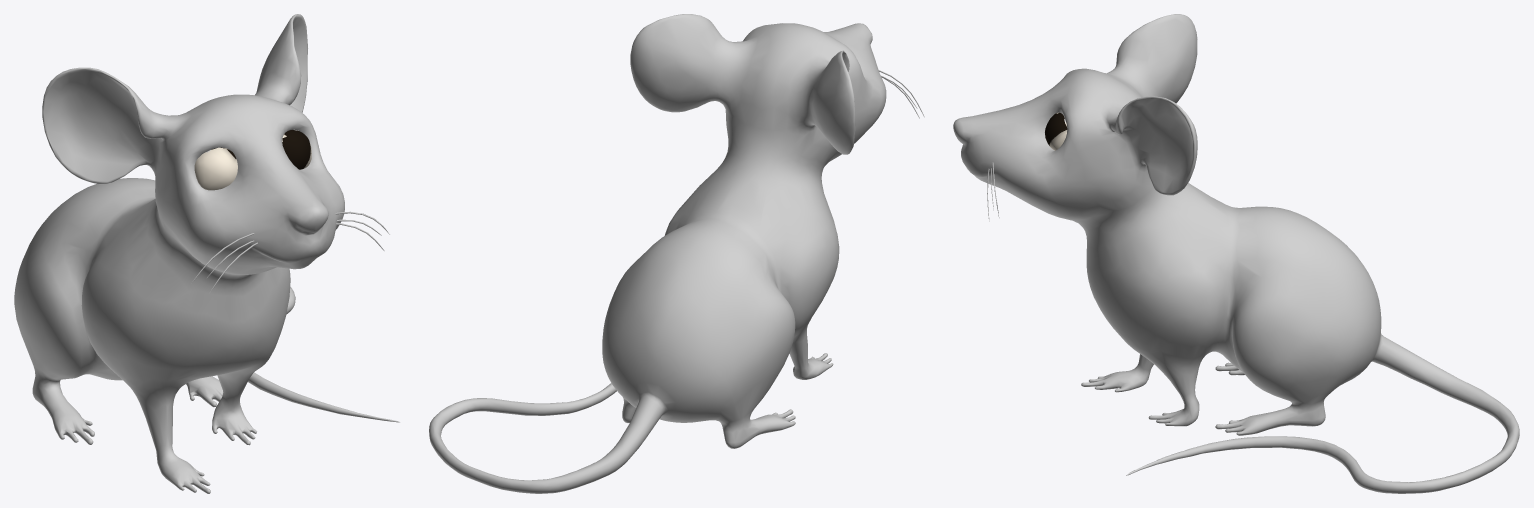
Rendered from Souris.fbx.
The picture shows the model from 3 angles, left to right: view 1: azimuth 30°, elevation 25°; view 2: azimuth 150°, elevation 25°; view 3: azimuth 270°, elevation 25°; orthographic projection. The views are drawn at different scales.
Visible parts, largest first — view 1: body, Eye_r, Eye_l; view 2: body; view 3: body, Eye_l.
Boxes of the visible parts, <box> form: body: <box>14,14,399,493</box>; Eye_r: <box>194,147,237,190</box>; Eye_l: <box>282,129,311,169</box>; body: <box>429,14,886,493</box>; body: <box>953,14,1519,493</box>; Eye_l: <box>1045,112,1067,150</box>.
Bounding box in the file's own units: 19.16 × 20.4 × 30.46.
